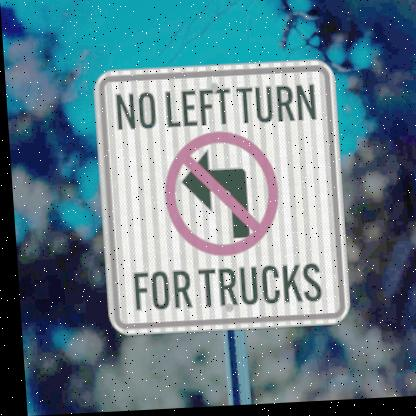No left turn: (144, 127, 285, 265)
